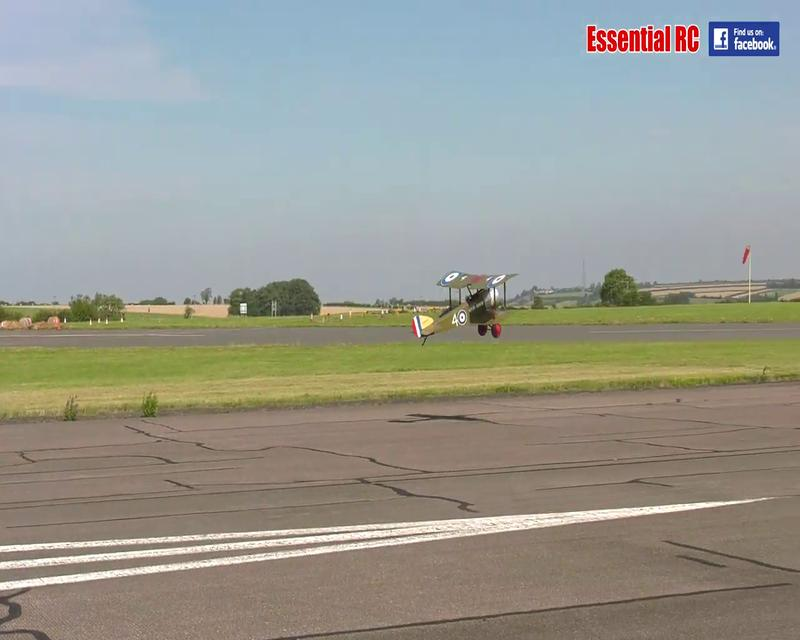UAV: (413, 270, 519, 345), (586, 22, 700, 53)
